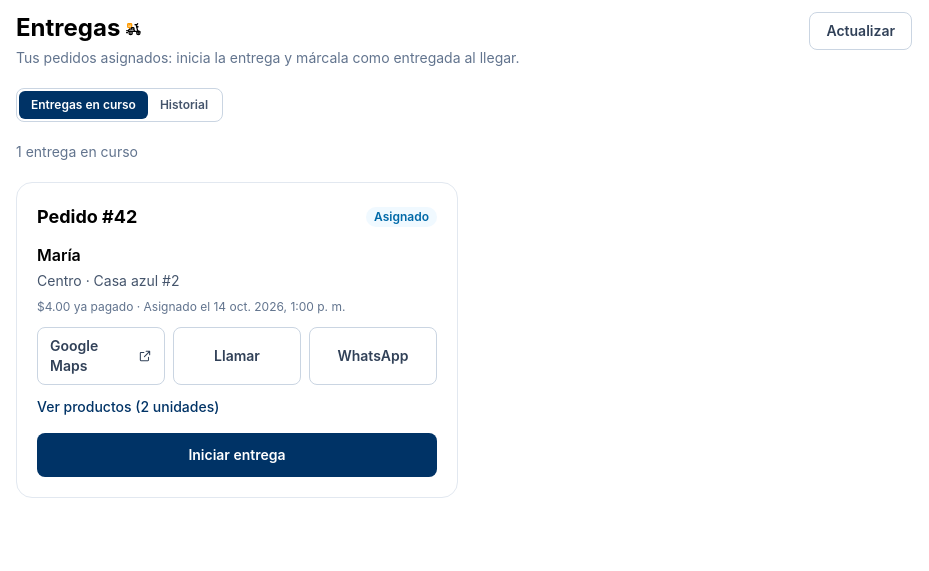
Entregas del repartidor › iniciar la entrega cambia el botón a "Marcar como entregado" en la misma tarjeta
Click the button "Iniciar entrega".
click(237, 455)  # box [37,433,437,477]
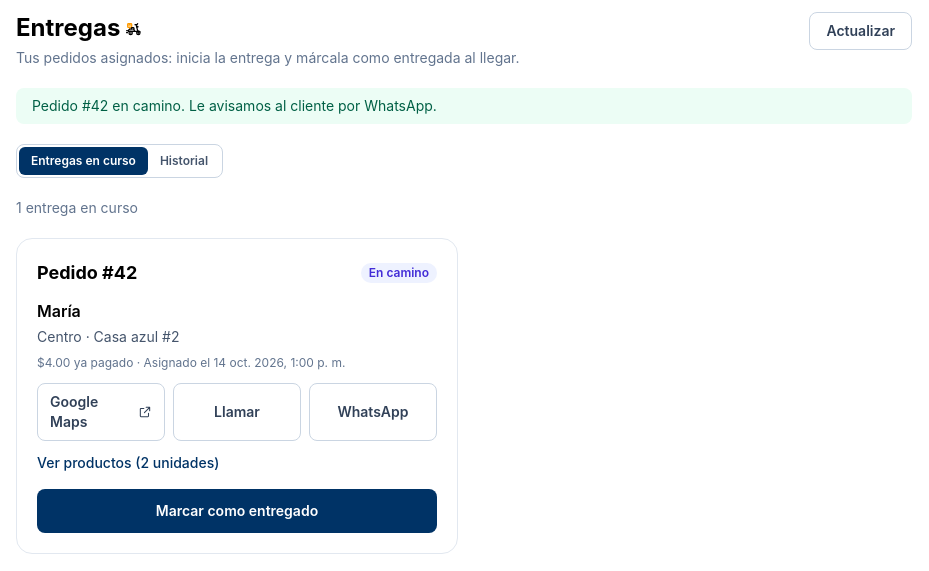
Expected: the text "Pedido #42 en camino. Le avisamos al cliente por WhatsApp." is shown, [16,88,912,124]
Expected: the button "Marcar como entregado" is shown, [37,489,437,533]
Expected: the button "Iniciar entrega" is gone
